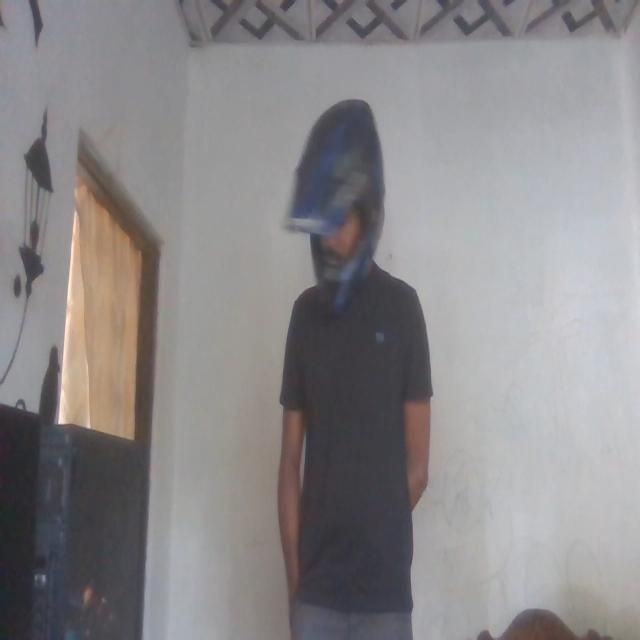Helmet_Wearer: (289, 98, 390, 304)
Person: (280, 98, 437, 640)
